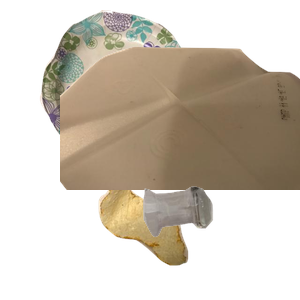glass: (141, 184, 300, 300)
paper: (37, 10, 219, 167)
plastic: (60, 44, 300, 224)
trash: (96, 181, 277, 300)
